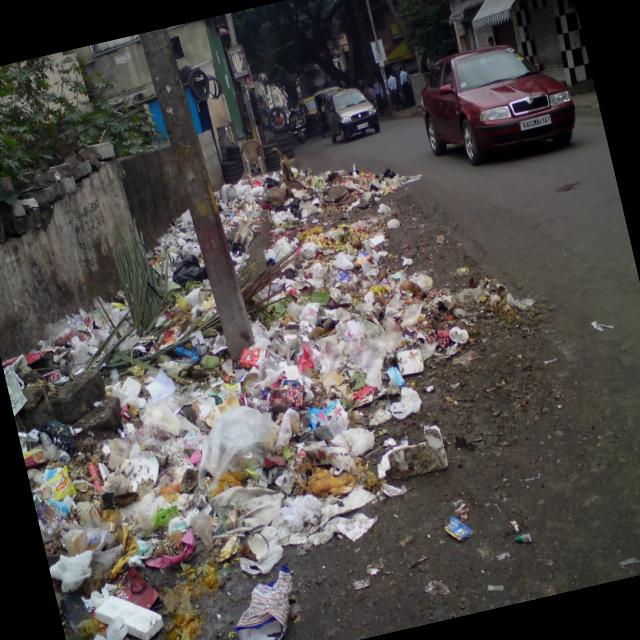garbage: (1, 161, 464, 639)
